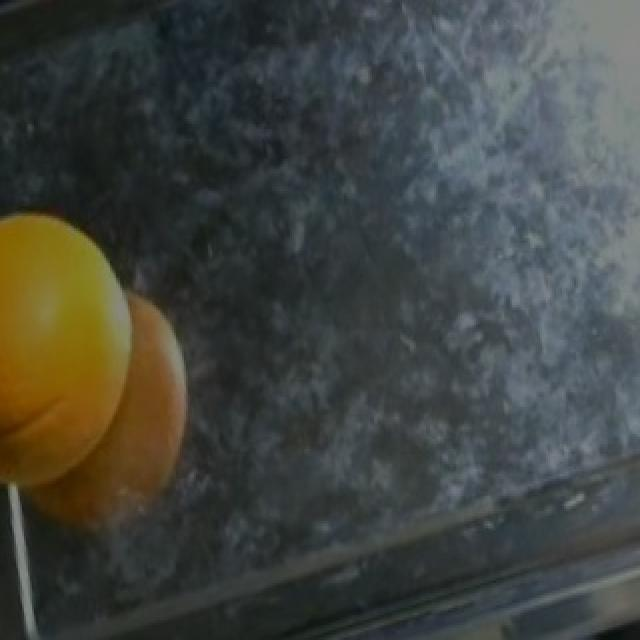Fruit: (0, 186, 152, 526)
